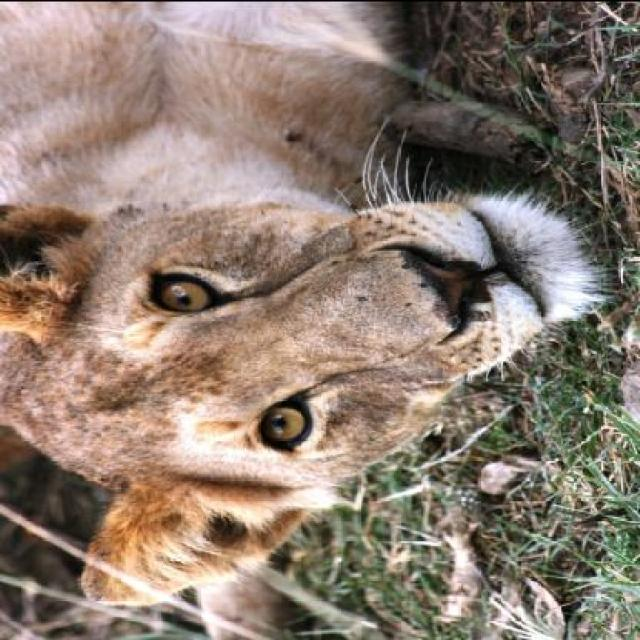Lion: (12, 0, 638, 618)
